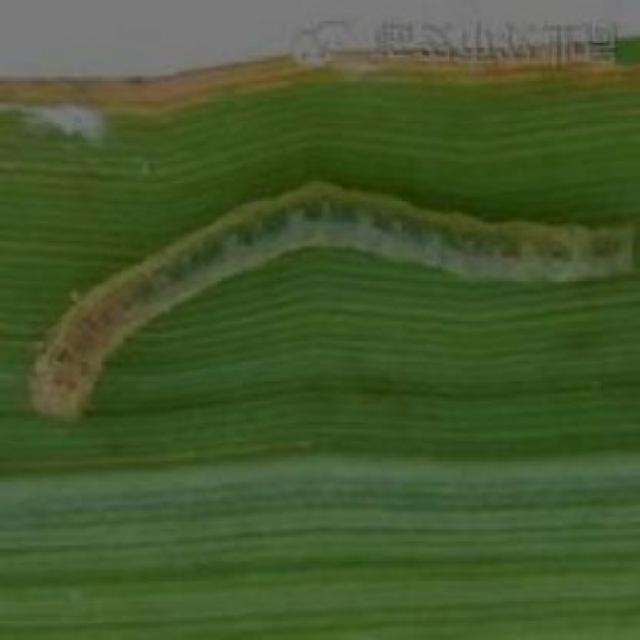leaf-folder: (34, 162, 640, 427)
